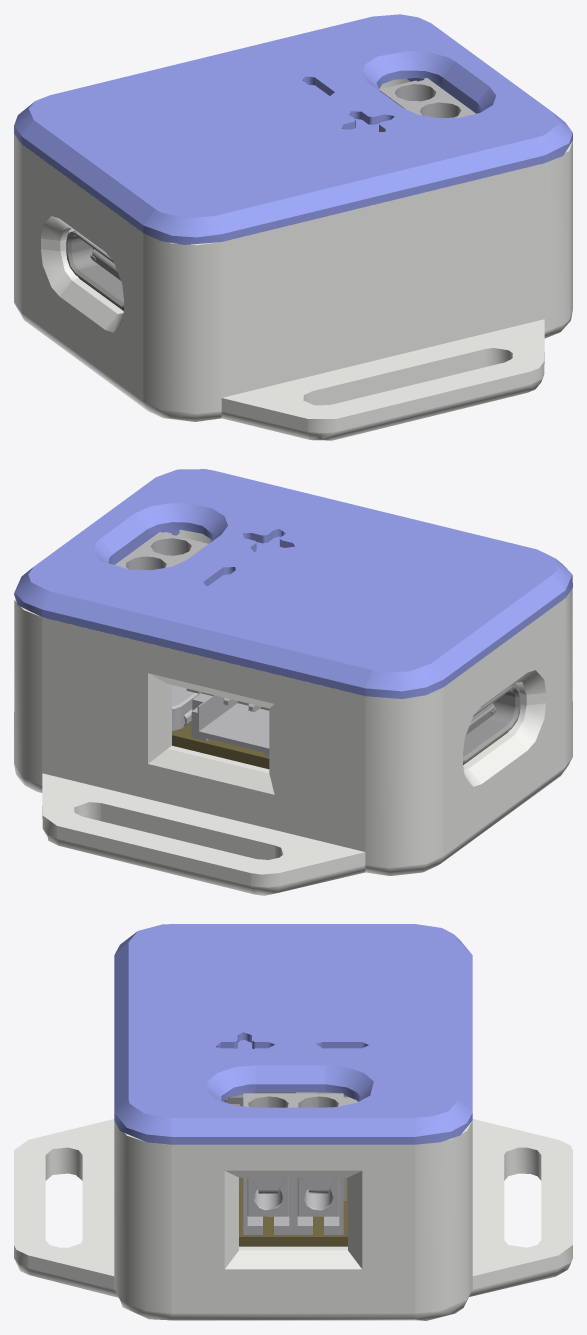
File: ada-6126.glb
The picture shows the model from 3 angles, top to bottom: view 1: azimuth 30°, elevation 25°; view 2: azimuth 150°, elevation 25°; view 3: azimuth 270°, elevation 25°; orthographic projection.
Visible parts, largest first — view 1: 0.9166666666666666_0.9166666666666666_0.9166666666666666_0.8, 0.3333333333333333_0.3333333333333333_0.9166666666666666_0, 0.3333333333333333_0.3333333333333333_0.3333333333333333_0, 0.5833333333333334_0.5833333333333334_0.5833333333333334_0.8; view 2: 0.9166666666666666_0.9166666666666666_0.9166666666666666_0.8, 0.3333333333333333_0.3333333333333333_0.9166666666666666_0, 0.5833333333333334_0.5833333333333334_0.5833333333333334_0.8, 0.3333333333333333_0.3333333333333333_0.3333333333333333_0, 0.16666666666666666_0.16666666666666666_0.08333333333333333_; view 3: 0.9166666666666666_0.9166666666666666_0.9166666666666666_0.8, 0.3333333333333333_0.3333333333333333_0.9166666666666666_0, 0.5833333333333334_0.5833333333333334_0.5833333333333334_0.8, 0.16666666666666666_0.16666666666666666_0.08333333333333333_.
Boxes of the visible parts, x1,y1,x2,y2 form: 0.9166666666666666_0.9166666666666666_0.9166666666666666_0.8: [14, 78, 572, 440]; 0.3333333333333333_0.3333333333333333_0.9166666666666666_0: [14, 14, 572, 244]; 0.3333333333333333_0.3333333333333333_0.3333333333333333_0: [66, 231, 123, 308]; 0.5833333333333334_0.5833333333333334_0.5833333333333334_0.8: [379, 78, 475, 117]; 0.9166666666666666_0.9166666666666666_0.9166666666666666_0.8: [14, 529, 572, 895]; 0.3333333333333333_0.3333333333333333_0.9166666666666666_0: [14, 469, 572, 698]; 0.5833333333333334_0.5833333333333334_0.5833333333333334_0.8: [115, 532, 269, 756]; 0.3333333333333333_0.3333333333333333_0.3333333333333333_0: [463, 685, 520, 762]; 0.16666666666666666_0.16666666666666666_0.08333333333333333_: [172, 685, 516, 769]; 0.9166666666666666_0.9166666666666666_0.9166666666666666_0.8: [14, 1119, 572, 1320]; 0.3333333333333333_0.3333333333333333_0.9166666666666666_0: [114, 924, 472, 1144]; 0.5833333333333334_0.5833333333333334_0.5833333333333334_0.8: [243, 1092, 357, 1234]; 0.16666666666666666_0.16666666666666666_0.08333333333333333_: [224, 1101, 347, 1246].
Bounding box in the file's own units: 3.4 × 1.56 × 3.9.
